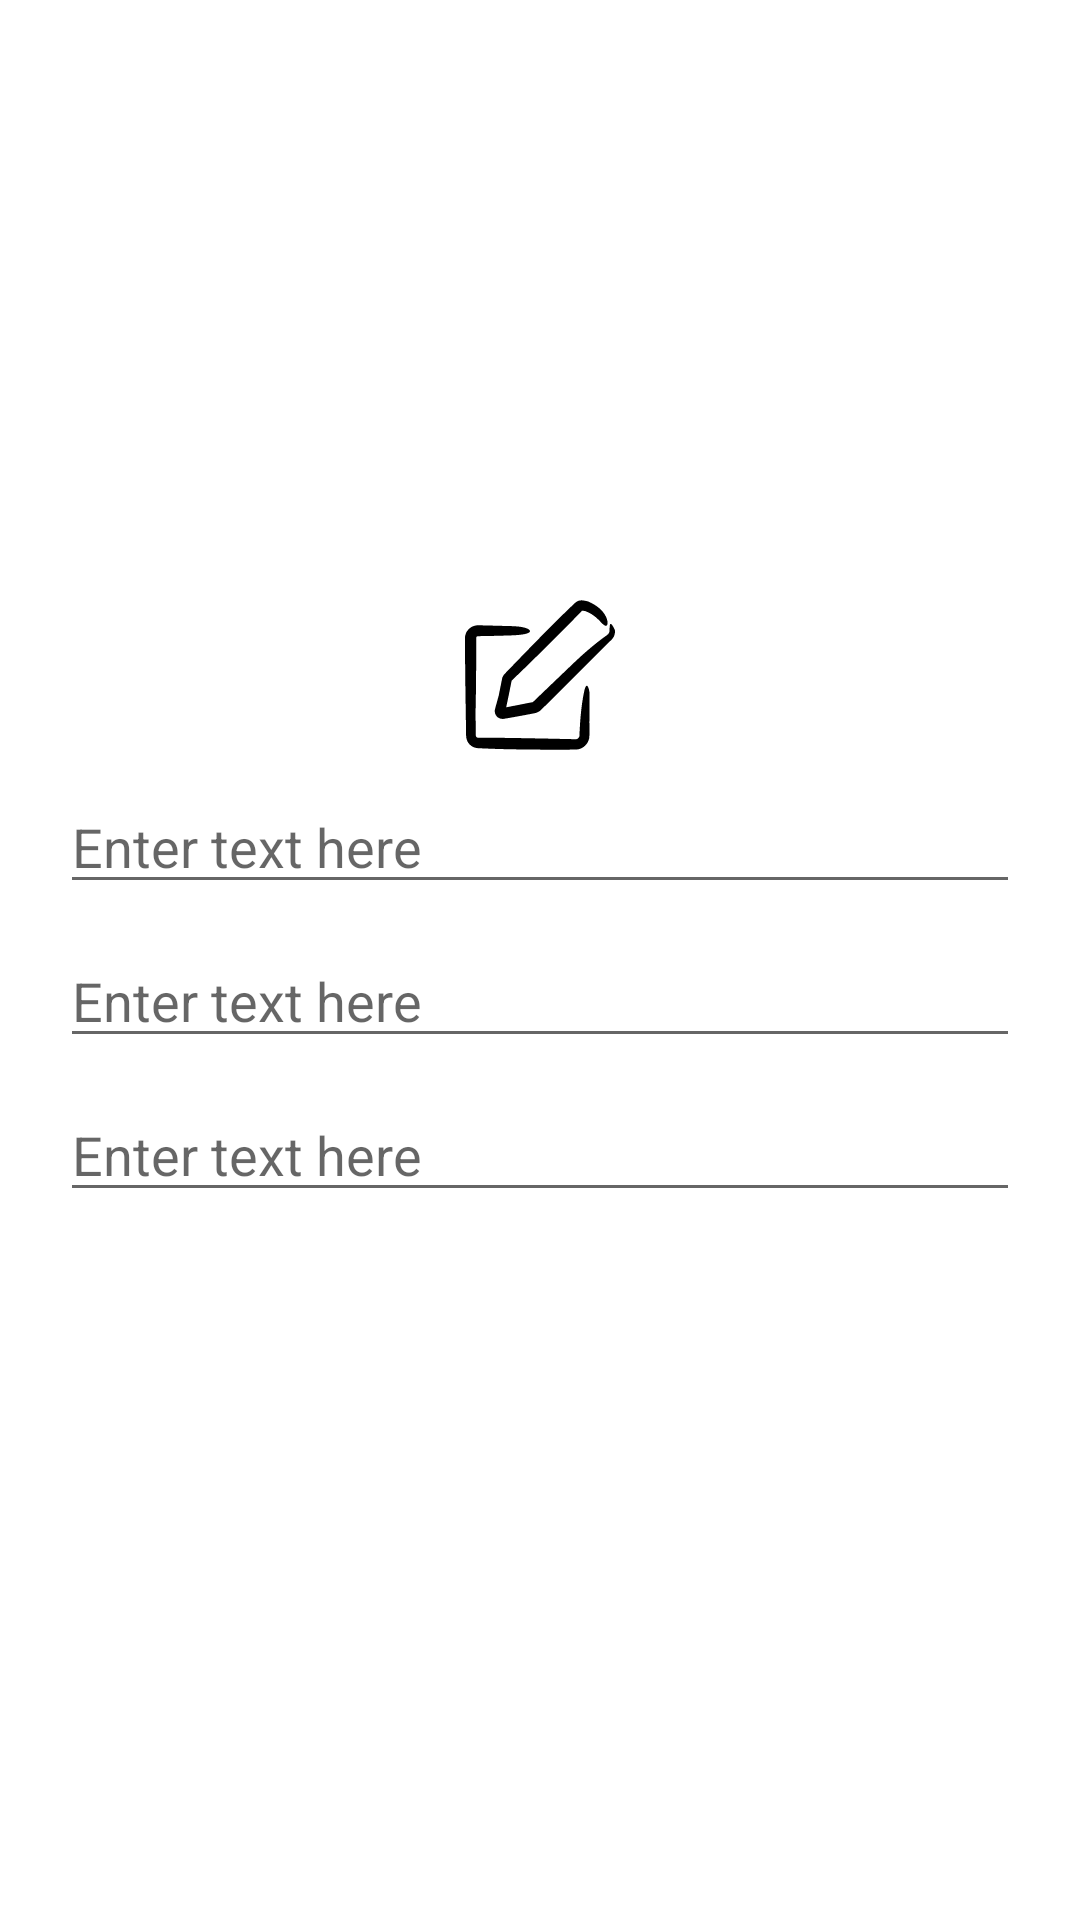

Icon click points for this 1080px x 1920px phone screenshot, format (x,y):
edit: (540,675)
